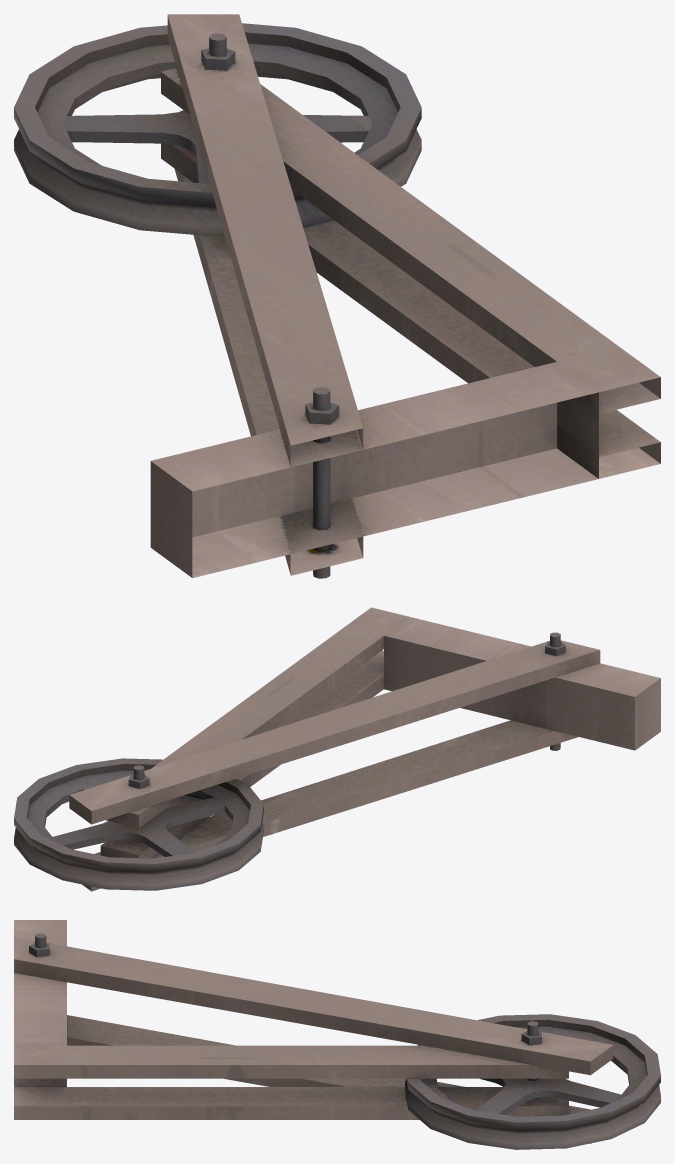
File: props_mining_crane002.glb
3 renders of one model, top to bottom at view 1: azimuth 30°, elevation 25°; view 2: azimuth 150°, elevation 25°; view 3: azimuth 270°, elevation 25°, orthographic. The views are drawn at different scales.
Visible parts, largest first — view 1: models/props_mining/crane002; view 2: models/props_mining/crane002; view 3: models/props_mining/crane002.
Part boxes in pixels (bbox=[...]): models/props_mining/crane002: bbox=[14, 14, 660, 578]; models/props_mining/crane002: bbox=[14, 607, 660, 891]; models/props_mining/crane002: bbox=[14, 920, 660, 1149].
Bounding box in the file's own units: 76.57 × 22.1 × 111.
Materials: 1 (1 with a texture image).
